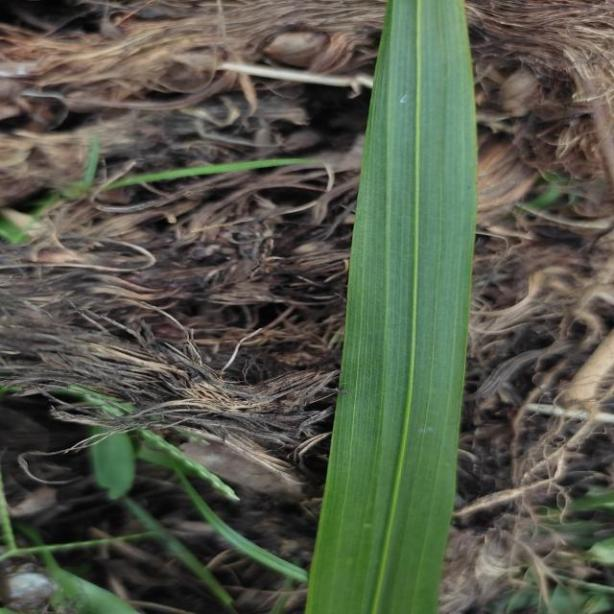Healthy: (300, 0, 476, 614)
